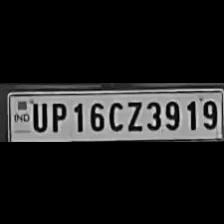1: (68, 98, 86, 132), (182, 96, 198, 130)
3: (144, 97, 160, 130)
6: (86, 98, 106, 132)
9: (199, 97, 219, 128), (162, 97, 180, 129)
C: (106, 98, 124, 130)
P: (47, 98, 67, 132)
U: (28, 98, 48, 132)
Z: (124, 97, 142, 131)
